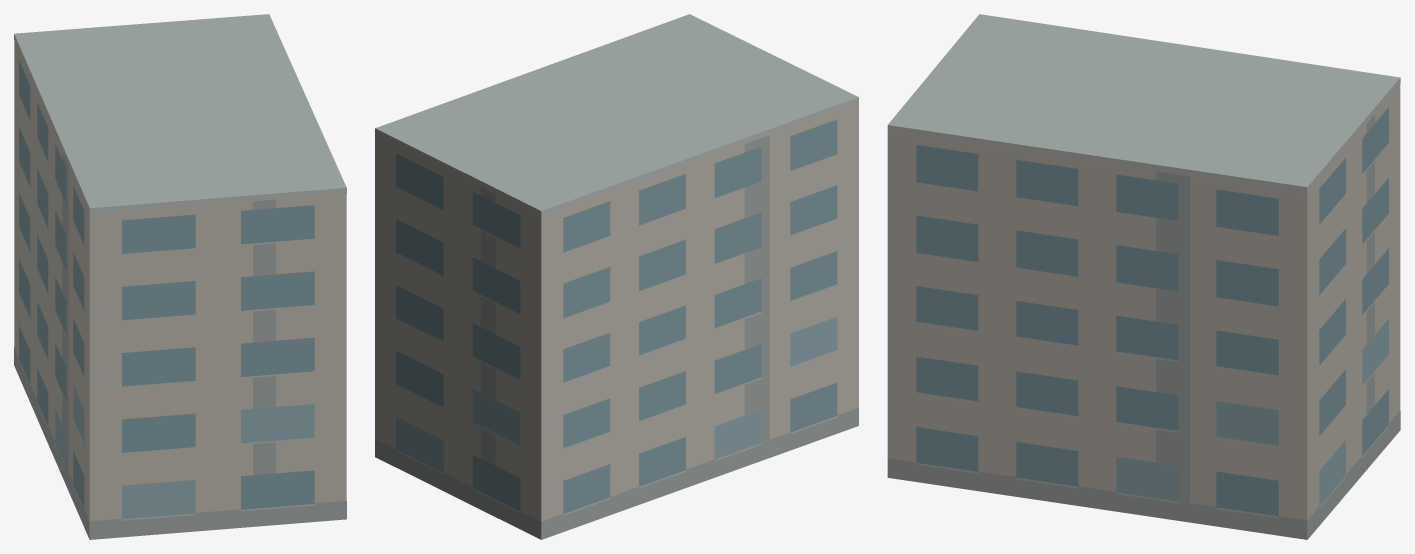
Rendered from survey-upis-32852645.glb.
The picture shows the model from 3 angles, left to right: view 1: azimuth 30°, elevation 25°; view 2: azimuth 150°, elevation 25°; view 3: azimuth 270°, elevation 25°; orthographic projection. The views are drawn at different scales.
Visible parts, largest first — view 1: survey-upis-32852645.tmp; view 2: survey-upis-32852645.tmp; view 3: survey-upis-32852645.tmp.
Boxes of the visible parts, x1,y1,x2,y2 form: survey-upis-32852645.tmp: [14, 14, 346, 539]; survey-upis-32852645.tmp: [375, 14, 858, 539]; survey-upis-32852645.tmp: [887, 14, 1400, 539].
Bounding box in the file's own units: 13.81 × 13.1 × 17.27.
